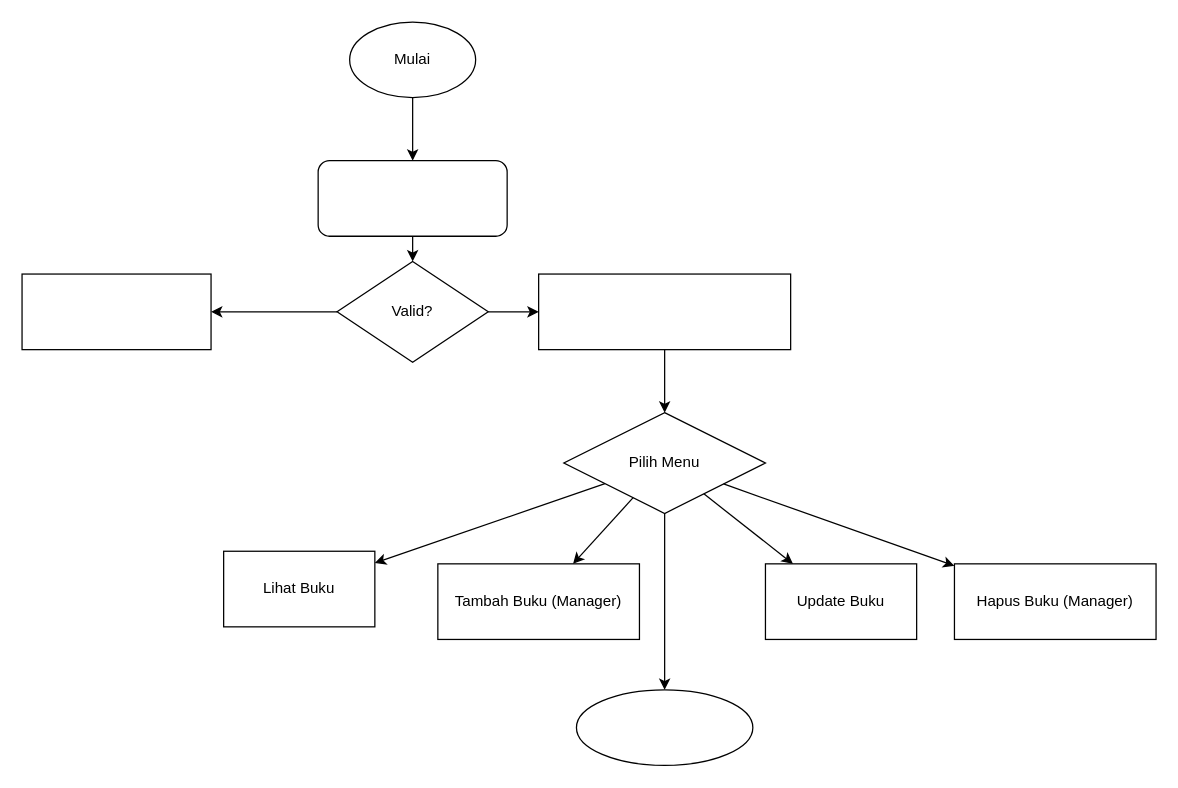
The diagram is 1178 pixels wide and 788 high, and some of its shapes have lost their labels. Here are the shapes that lost their labels. From the top down, the centre of each, then its label:
(412,197): Input Username & Password
(116,311): Login Gagal & Keluar
(664,311): Tampilkan Menu Sesuai Role
(664,727): Program Selesai
